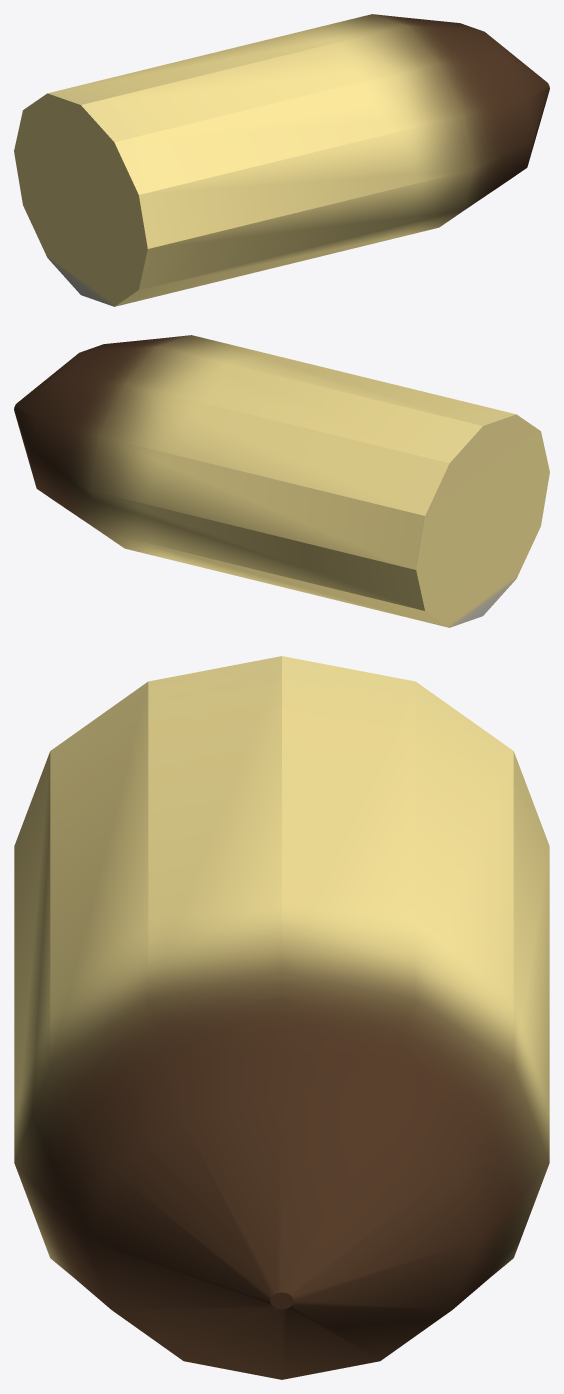
The model's file is BulletOnly.fbx.
3 views of the same model, one above another, from view 1: azimuth 30°, elevation 25°; view 2: azimuth 150°, elevation 25°; view 3: azimuth 270°, elevation 25° (orthographic). The views are drawn at different scales.
Visible parts, largest first — view 1: Bala; view 2: Bala; view 3: Bala.
Boxes of the visible parts, box(x1,y1,x2,y2) form: Bala: box(14, 14, 549, 306); Bala: box(14, 335, 549, 627); Bala: box(14, 656, 549, 1379).
Bounding box in the file's own units: 0.6184 × 0.241 × 0.3075.
